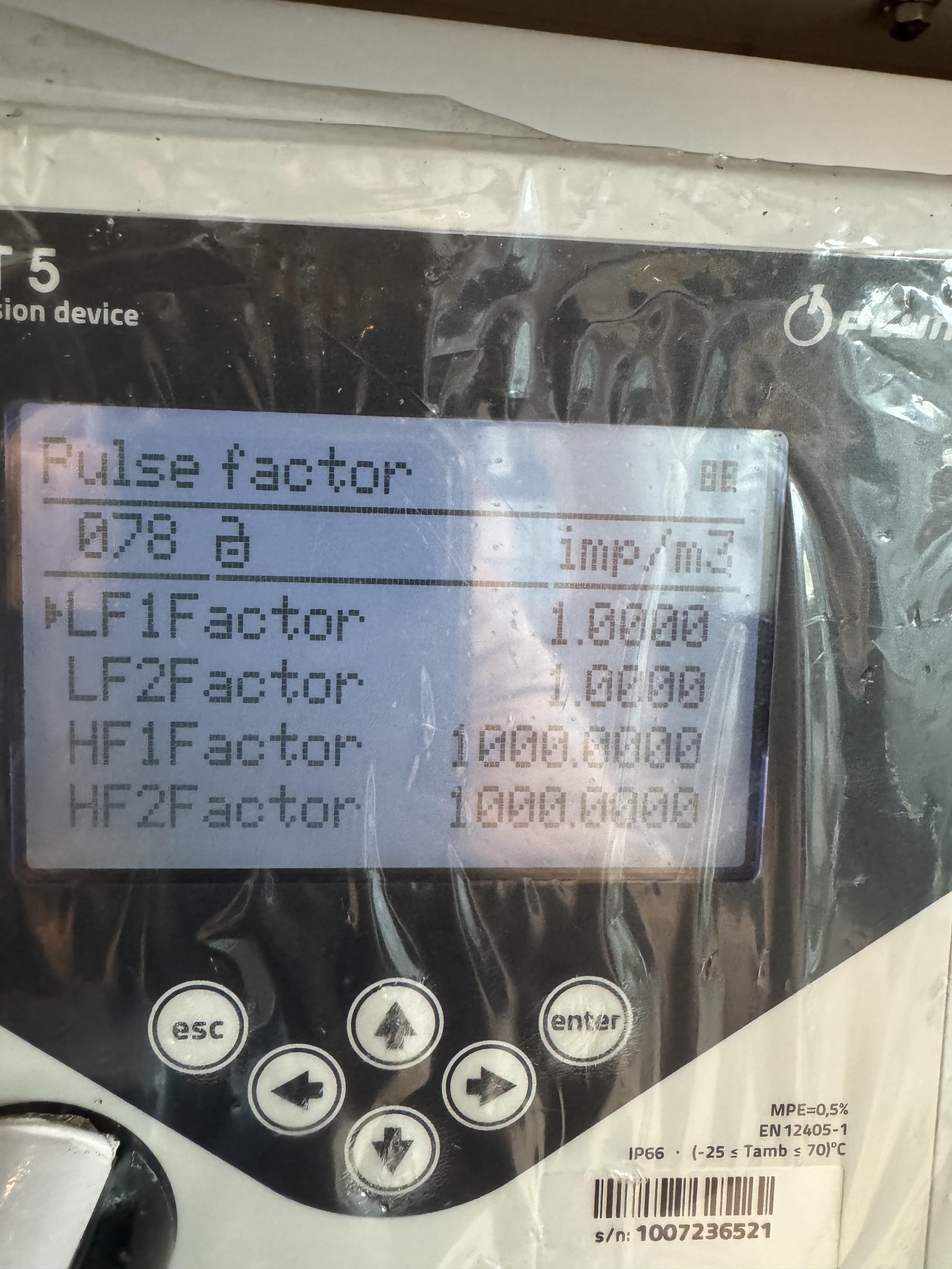digital_screen: (8, 404, 787, 877)
